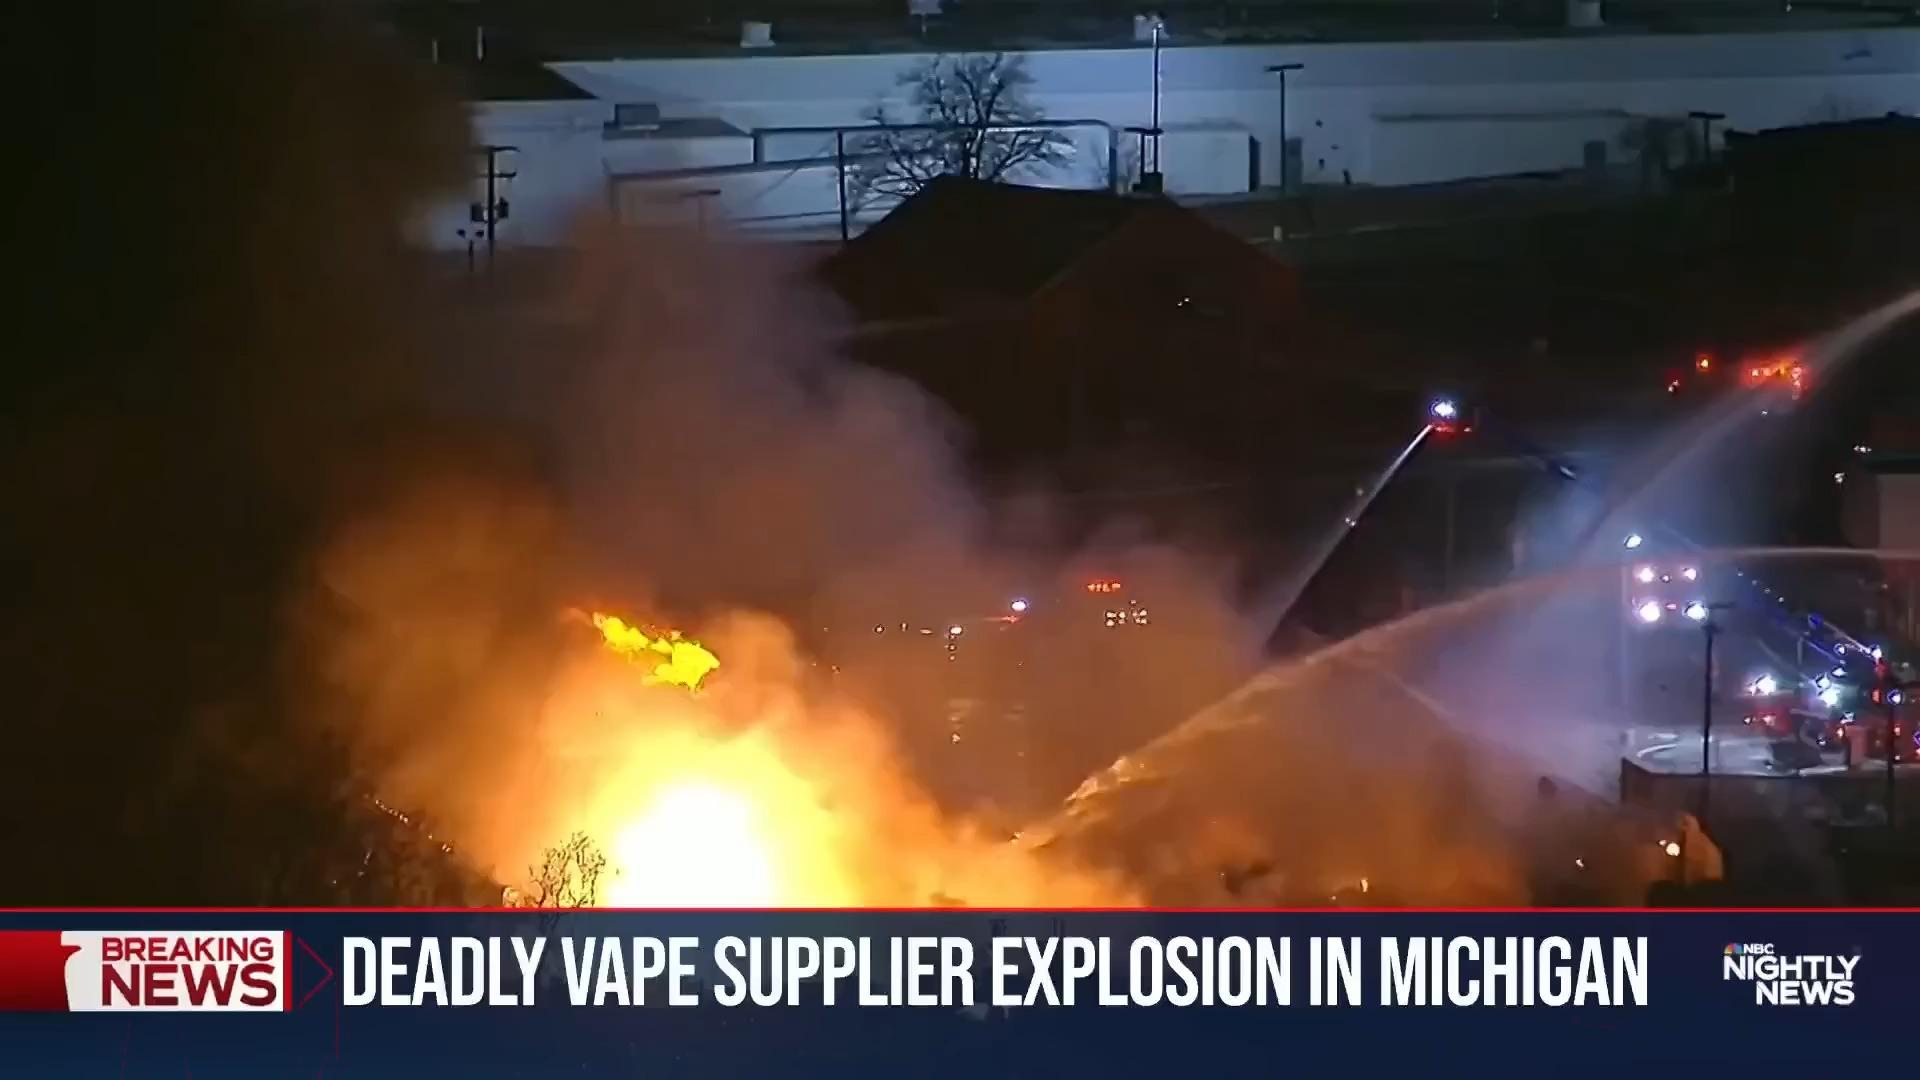fire: (553, 736, 885, 916), (541, 593, 848, 728), (434, 690, 554, 884)
